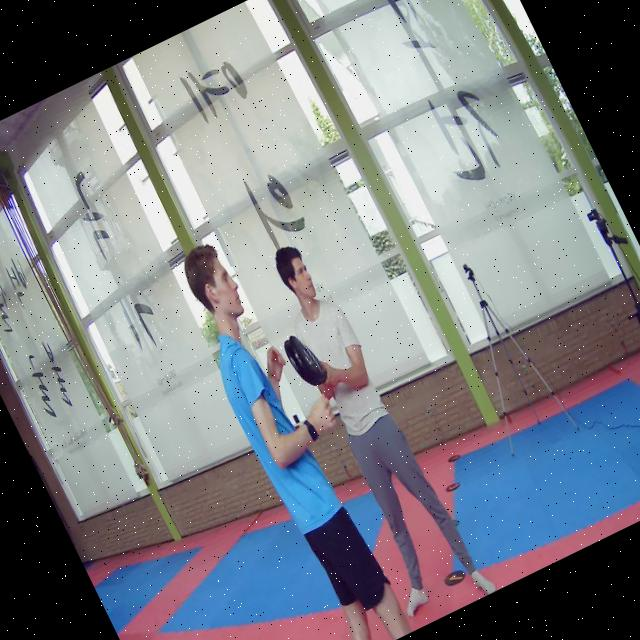paddle: (283, 333, 326, 387)
